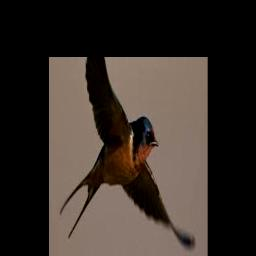Swallow: (60, 57, 197, 256)
